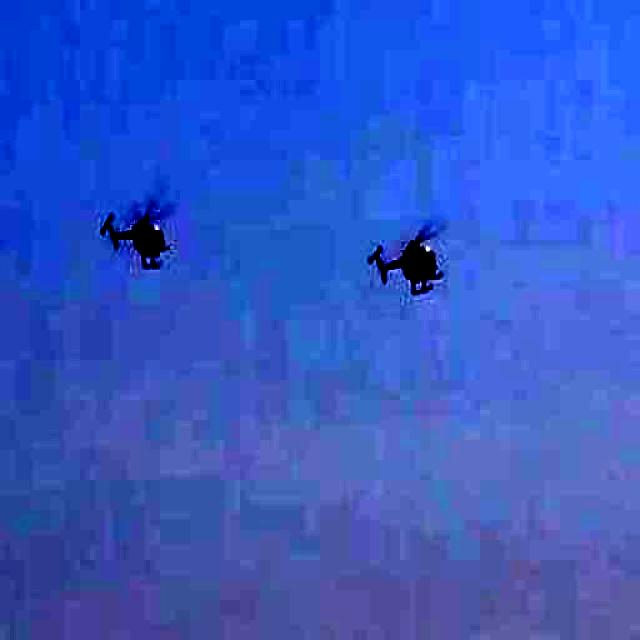drone: (85, 201, 185, 288), (361, 214, 459, 302)
